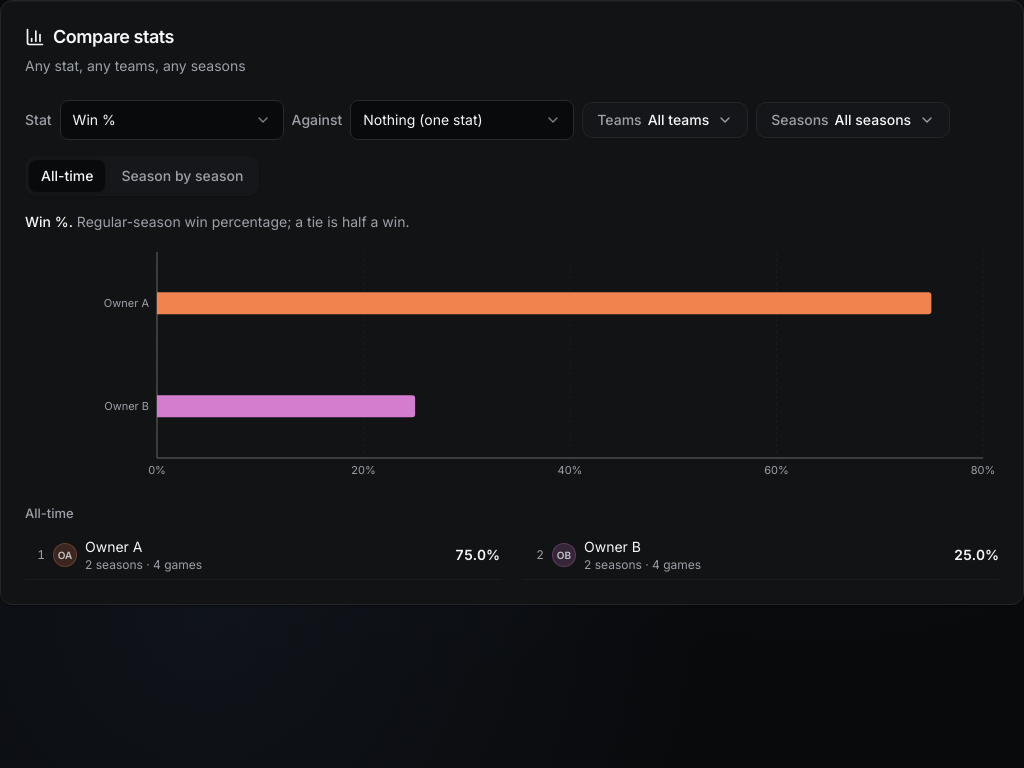
Test case: StatComparison › names the teams with no figure instead of drawing them as zero
Click the dropdown named "Stat".
click(172, 120)  # box x1=60 y1=100 x2=284 y2=140
(page scrolled)
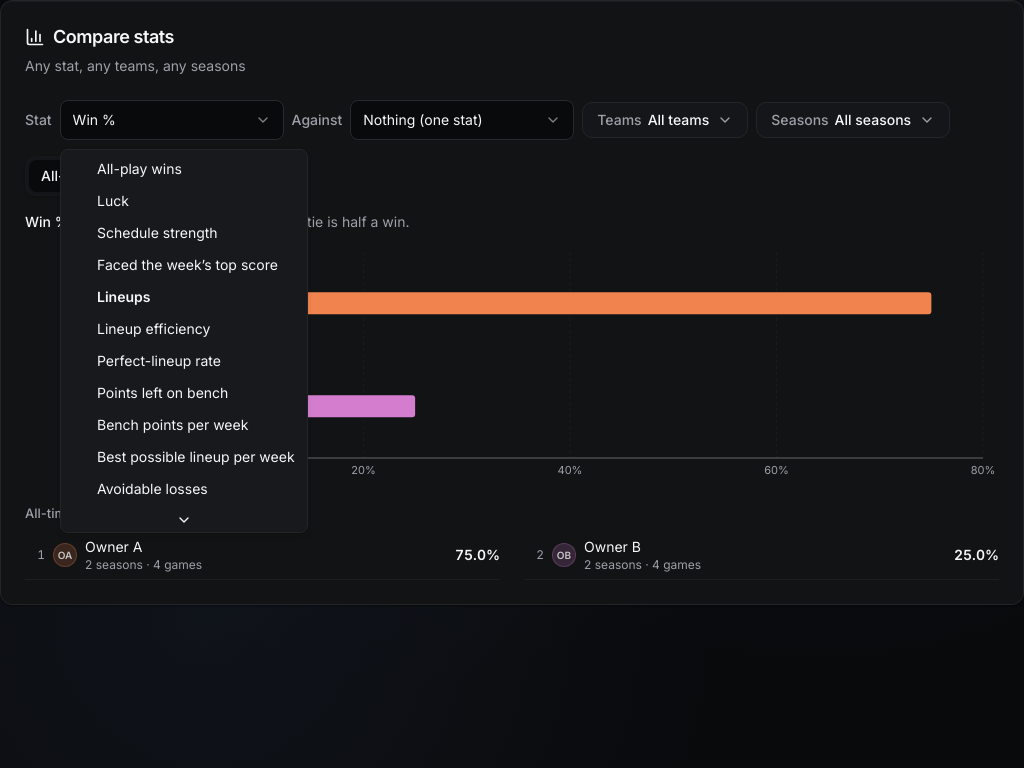
Click the option "Lineup efficiency".
click(154, 328)  # box x1=97 y1=320 x2=210 y2=337
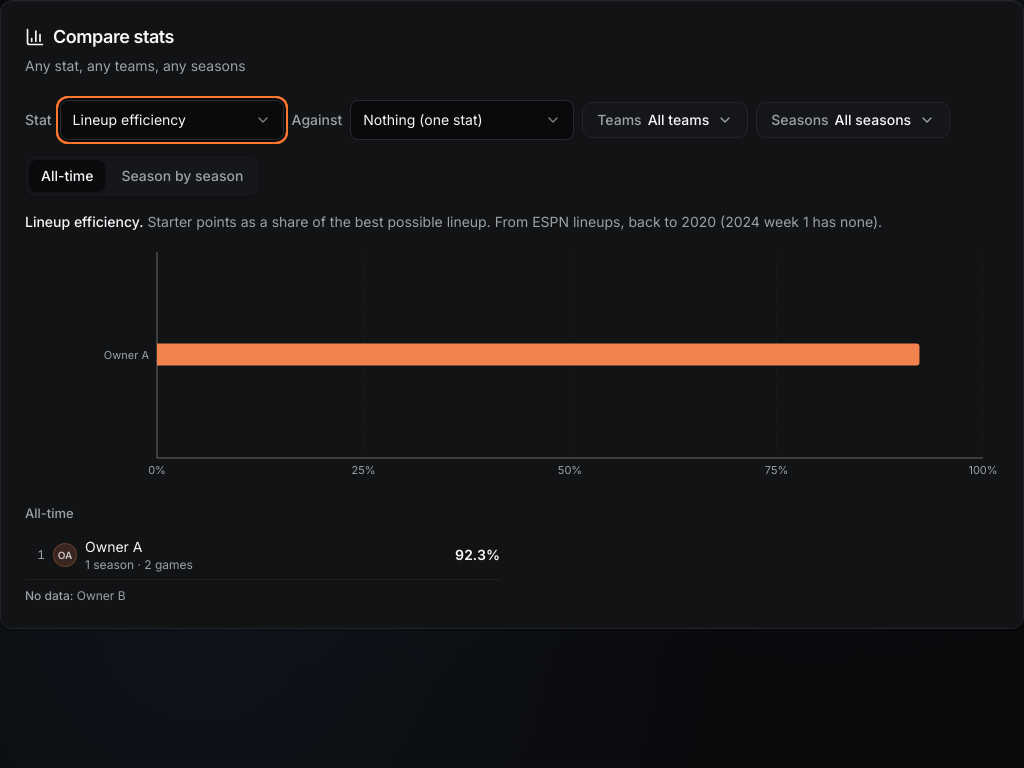
Now the number of list items is 1, box x1=25 y1=531 x2=500 y2=580
